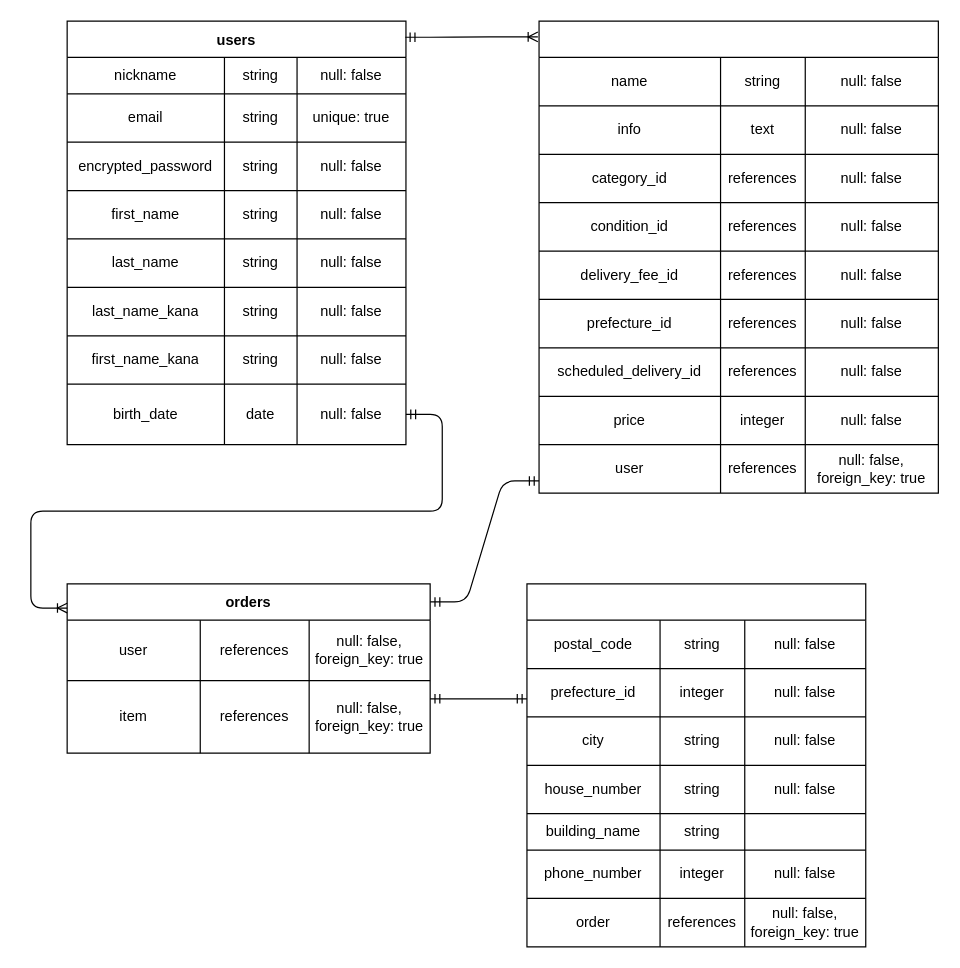
Some shapes in this 960 by 968 pixel diagram are drawn without their labels. Each missing label, with the box of its shape:
addresses: (526, 583, 866, 947)
items: (538, 20, 938, 493)
